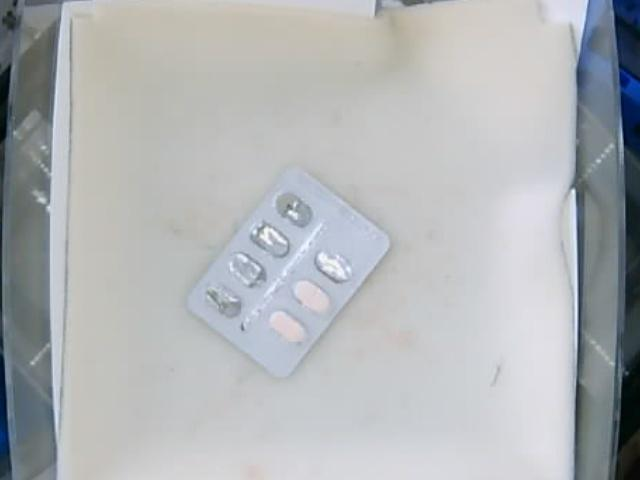Medicine: (190, 155, 392, 379)
